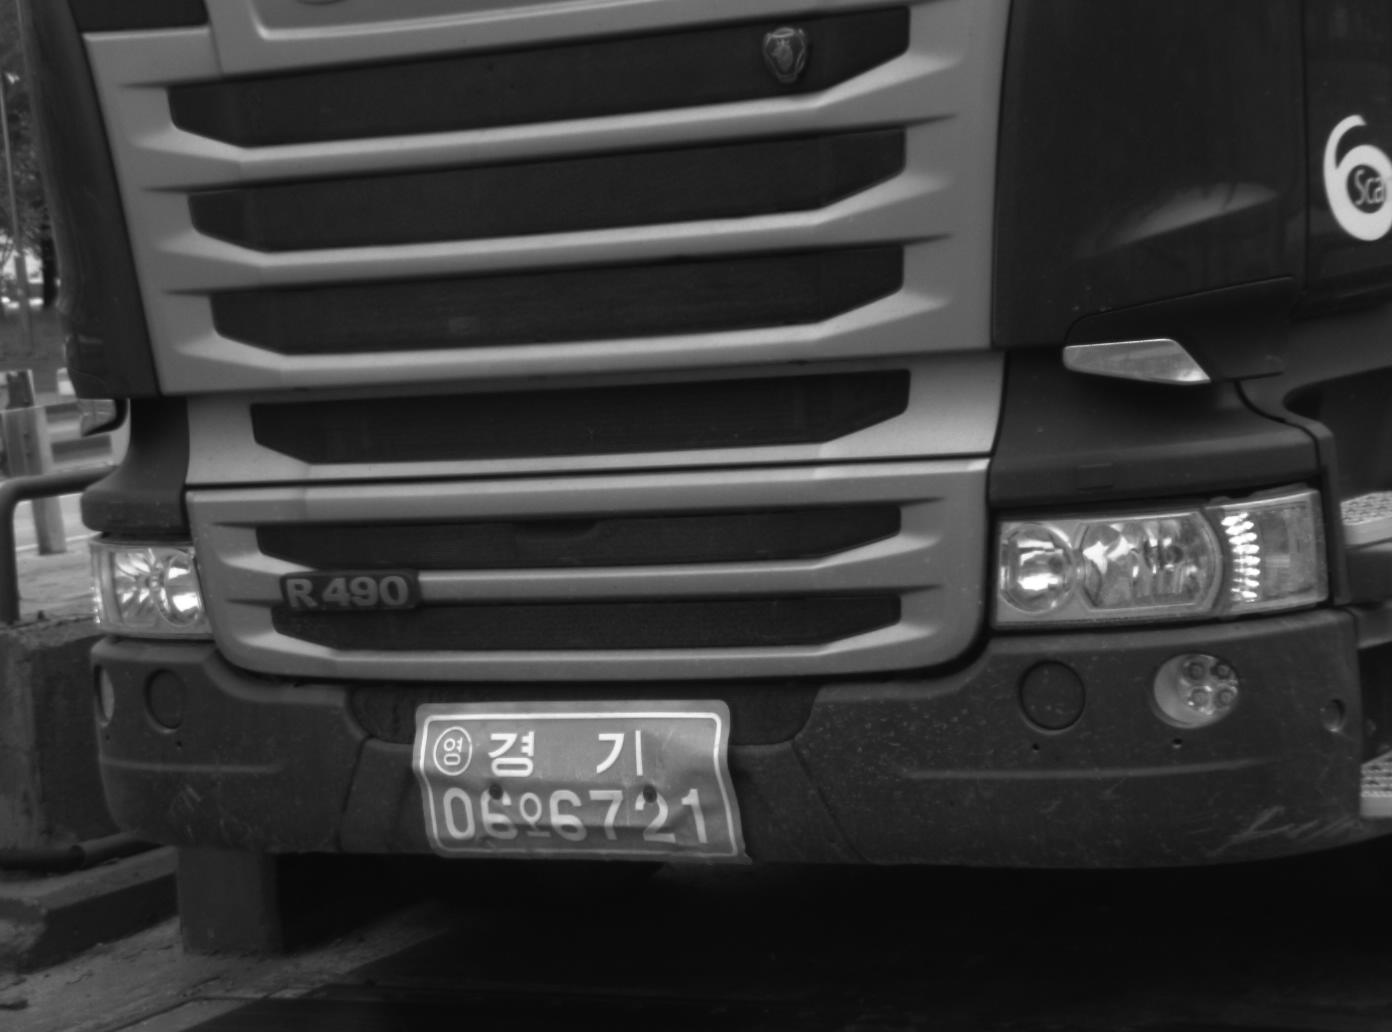car: (17, 1, 1392, 920)
plate: (413, 702, 750, 866)
